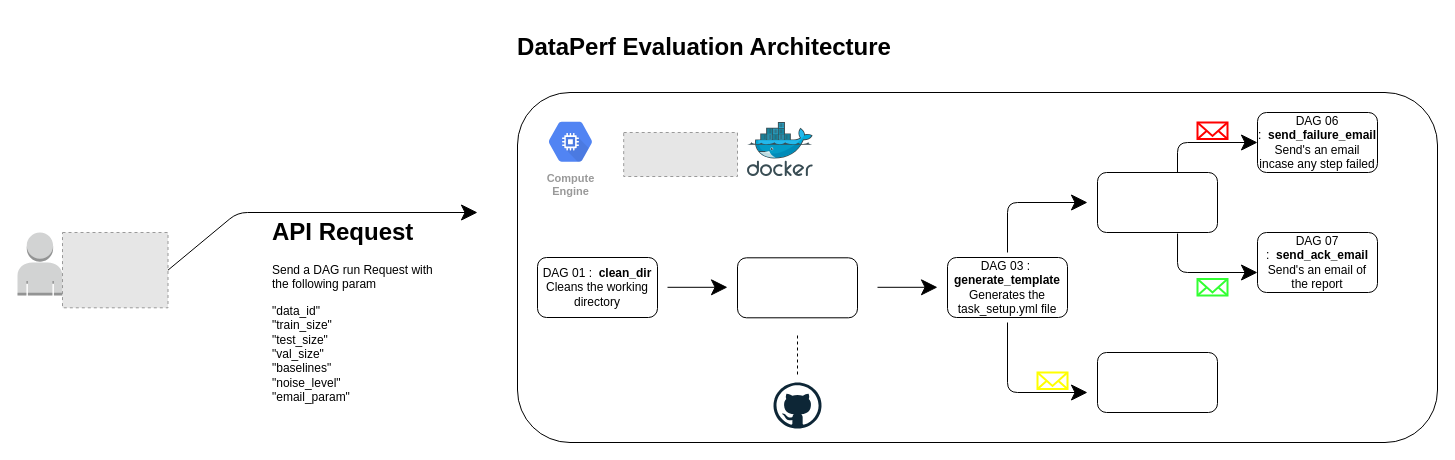
Some shapes in this 1455 by 460 pixel diagram are drawn without their labels. Grey dashed boxes stand in for pictures. Each missing label, with the box of its shape:
DAG 02 : download_code downloads source code from Github: (736, 257, 858, 318)
DAG 04 : send_ack_email Send's an ack mail to requester: (1096, 352, 1218, 412)
DAG 05 : run_python_script Run's the dataperf evaluation script: (1096, 172, 1218, 232)
